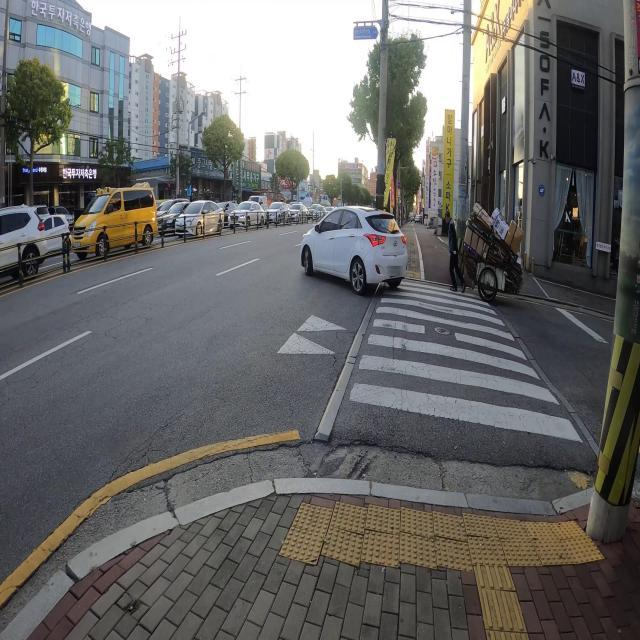crosswalk: (338, 277, 588, 454)
